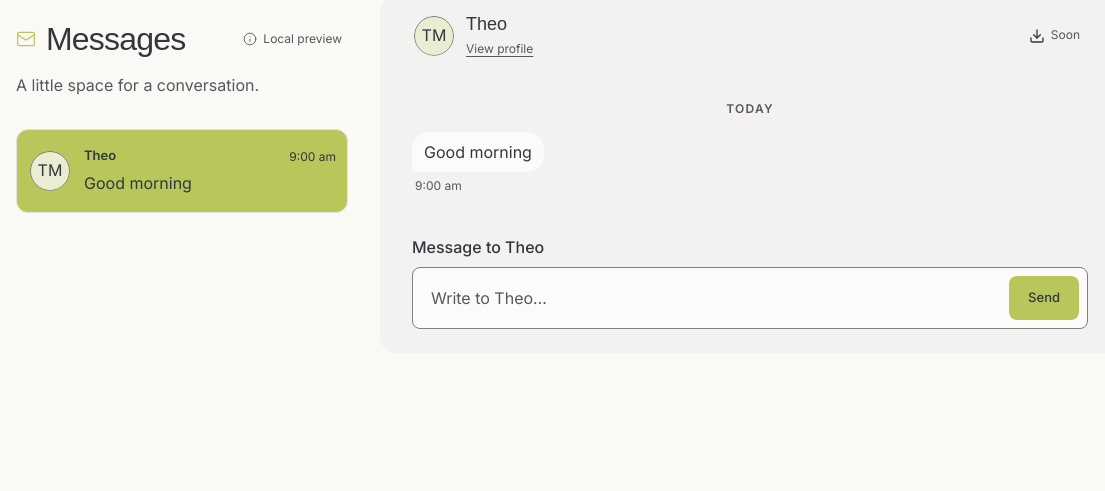
Scenario: adds a local message when randomUUID is unavailable
Type "Hello from my phone." into the text box labelled "Message to Theo". click: (711, 298)
box: [421,279,1001,317]
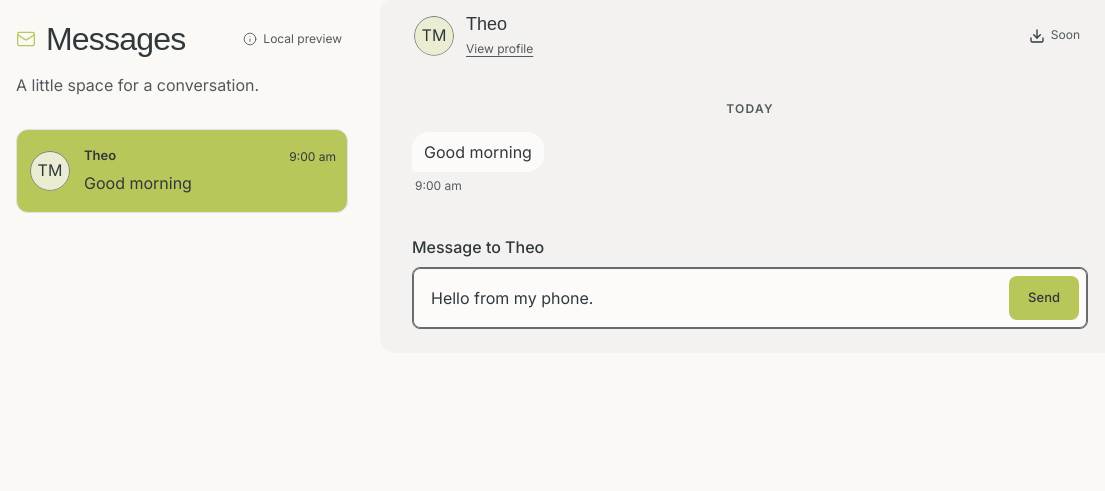
Click the button with aria-label "Add message to local preview". click: (1044, 298)
box: [1009,276,1079,320]
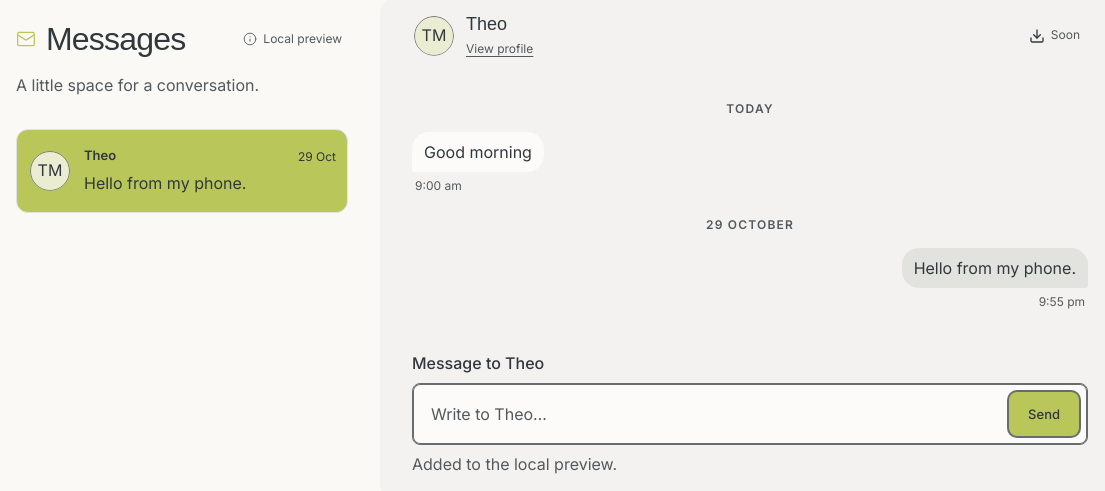
Expected: the text "Hello from my phone." is shown, [902,248,1088,288]
